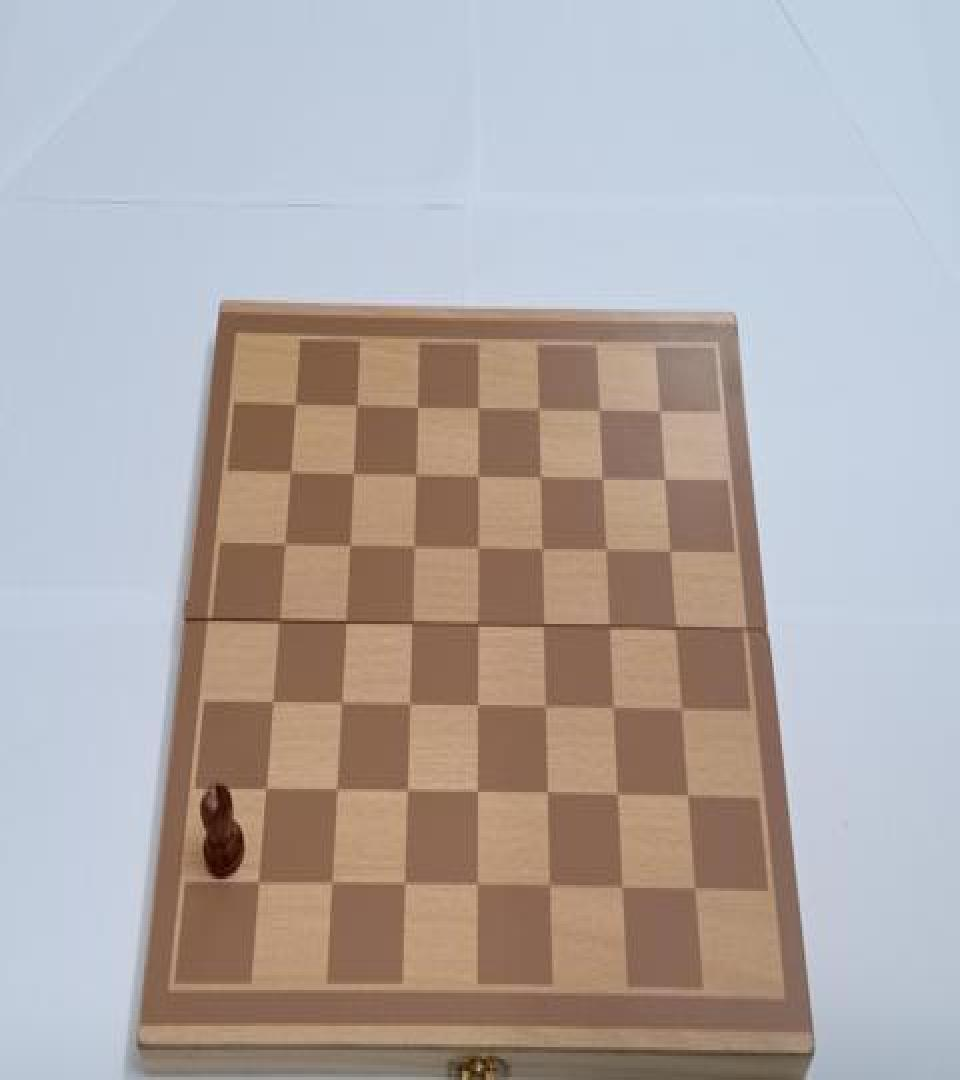xcorner: (399, 694, 417, 722), (467, 694, 485, 722), (531, 466, 549, 494), (593, 466, 611, 494), (287, 396, 305, 423), (269, 612, 287, 639), (263, 693, 281, 720), (256, 778, 274, 805), (248, 870, 266, 897), (348, 396, 366, 423), (344, 465, 362, 492), (340, 537, 358, 564), (335, 612, 353, 639), (331, 693, 349, 720), (326, 780, 344, 807), (408, 397, 426, 424), (406, 465, 424, 492), (404, 537, 422, 564), (396, 780, 414, 807), (469, 397, 487, 424), (468, 465, 486, 492), (468, 537, 486, 564), (466, 873, 484, 900), (529, 399, 547, 426), (532, 538, 550, 565), (534, 615, 552, 642), (535, 696, 553, 723), (539, 874, 557, 901), (590, 399, 608, 426), (597, 538, 615, 565), (600, 615, 618, 642), (604, 696, 622, 723), (607, 783, 625, 810), (612, 874, 630, 901), (651, 399, 669, 426), (656, 468, 674, 495), (661, 540, 679, 567), (666, 617, 684, 644), (678, 783, 696, 810), (684, 876, 702, 903), (282, 464, 300, 490), (276, 536, 294, 562), (321, 872, 339, 898), (401, 614, 419, 640), (393, 872, 411, 898), (468, 614, 486, 640), (467, 782, 485, 808), (537, 782, 555, 808), (672, 698, 690, 724)
